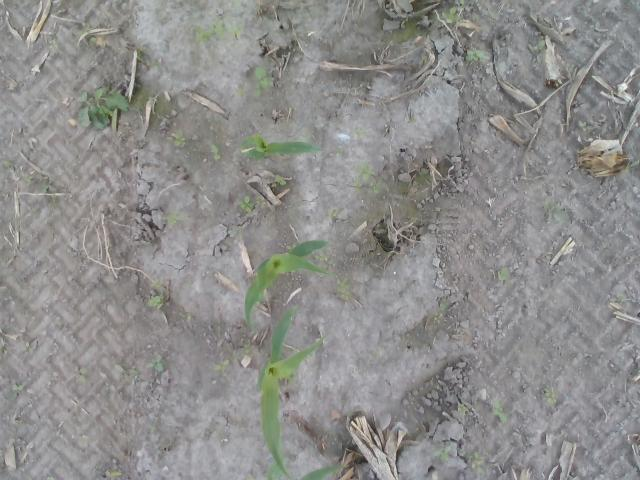Maize: (257, 306, 324, 480), (242, 240, 332, 327), (239, 132, 321, 162), (297, 462, 340, 480)
Weeds: (77, 79, 129, 129), (191, 13, 244, 42), (352, 159, 381, 192), (544, 198, 570, 224), (440, 0, 464, 25), (254, 66, 272, 98), (465, 452, 487, 476), (239, 194, 266, 213), (335, 276, 353, 301), (146, 350, 168, 370), (494, 400, 509, 425), (160, 210, 183, 226), (144, 294, 164, 311), (466, 48, 490, 62), (542, 384, 557, 406), (434, 300, 449, 320), (7, 384, 24, 401), (432, 447, 449, 463), (210, 142, 224, 161), (528, 38, 545, 53), (272, 174, 288, 188), (175, 129, 188, 146), (628, 160, 640, 176), (136, 46, 146, 64), (105, 469, 124, 478), (230, 0, 242, 14), (498, 267, 510, 281), (48, 195, 59, 209), (457, 402, 468, 416), (78, 368, 88, 383), (576, 120, 592, 129), (214, 360, 228, 370), (22, 342, 34, 353), (315, 254, 331, 262), (328, 207, 337, 221), (149, 278, 161, 288), (48, 38, 58, 50), (354, 128, 366, 138), (22, 175, 32, 186), (85, 35, 97, 44), (286, 242, 296, 252), (39, 184, 50, 193), (244, 342, 252, 354), (3, 159, 13, 167), (406, 116, 416, 124), (418, 168, 428, 176), (335, 148, 344, 156), (238, 87, 246, 96), (143, 96, 150, 102), (47, 476, 55, 480)
